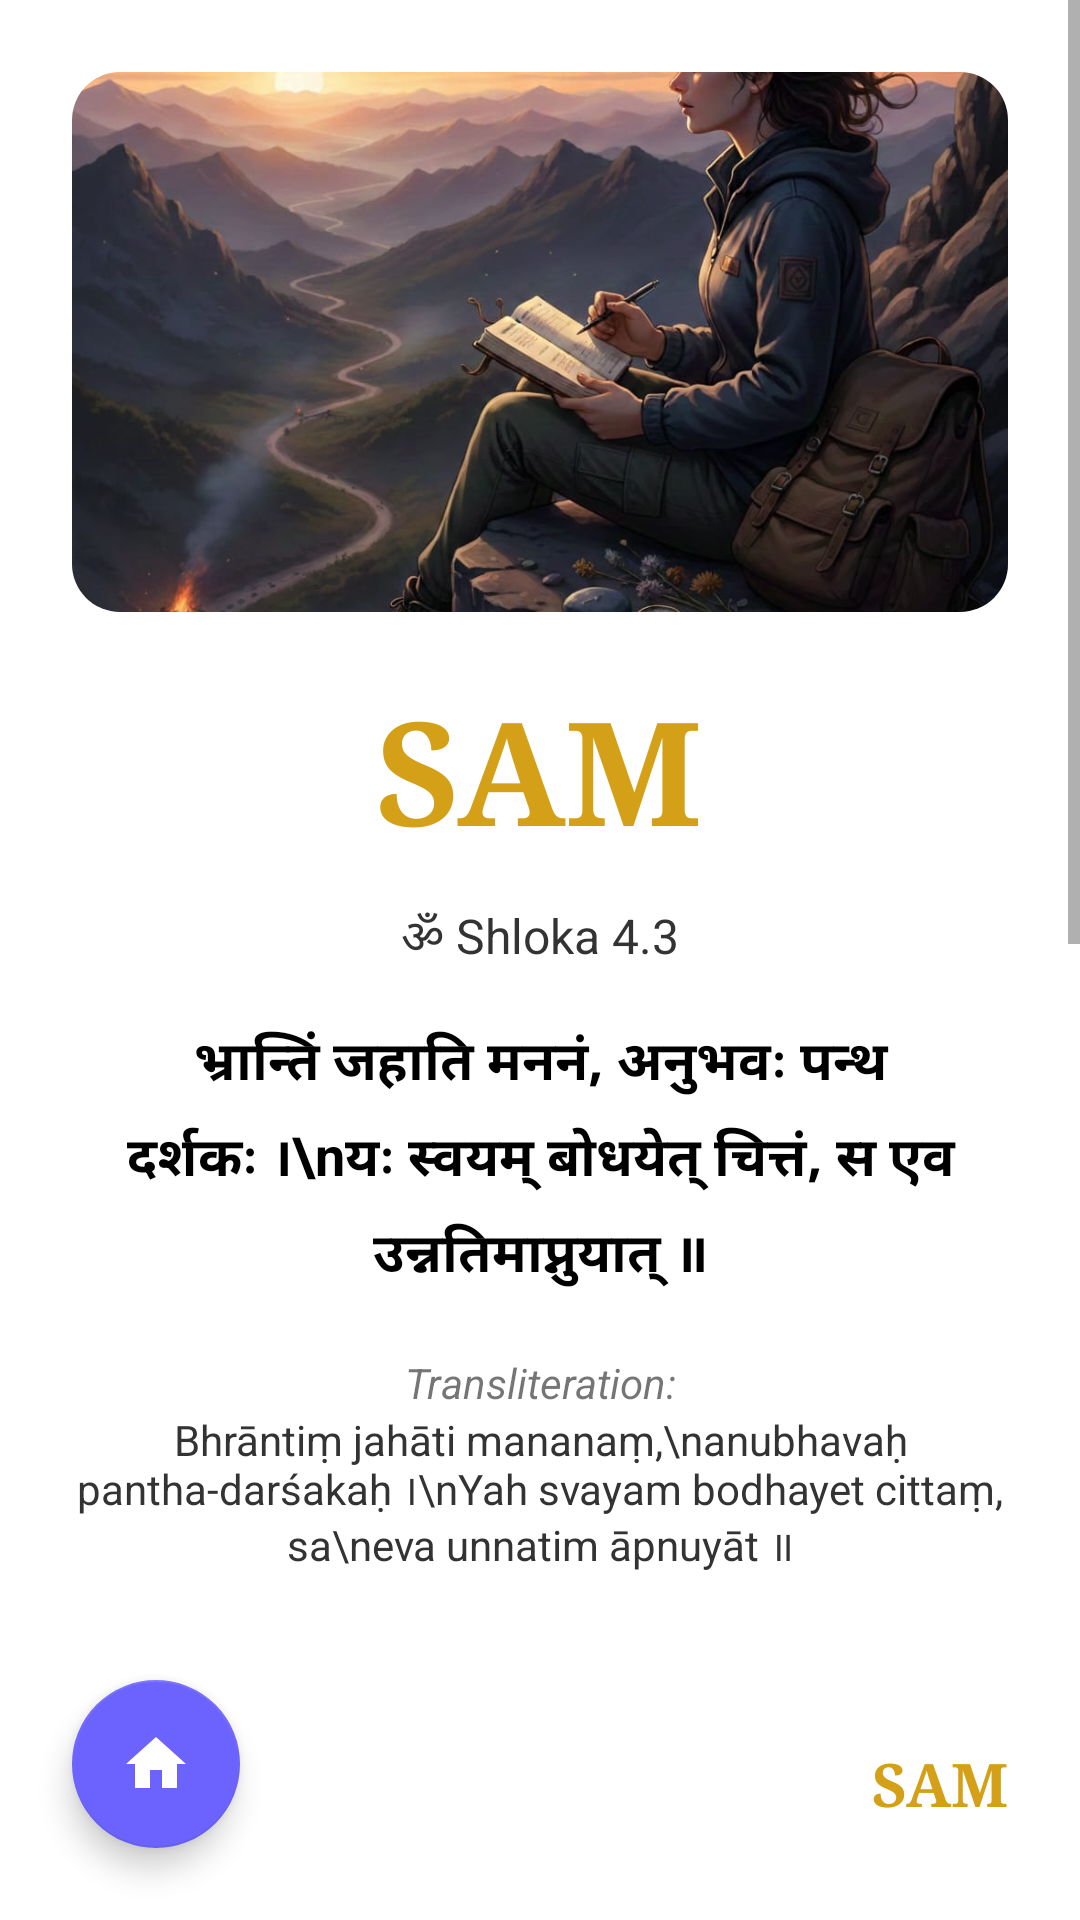

Screen size 1080w x 1920h. Icon name, then its box in pixels as {"left": x1, "top": y1, "right": x2, "bottom": y2}:
home: {"left": 72, "top": 1680, "right": 240, "bottom": 1848}
